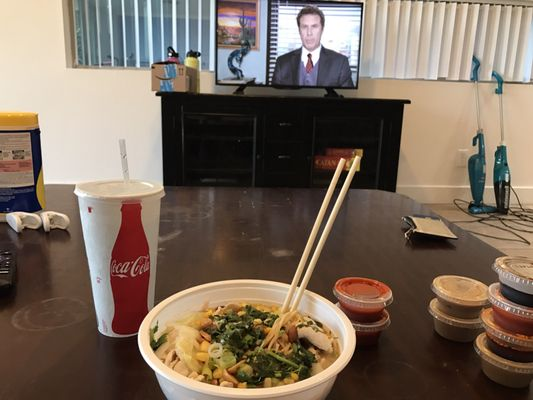salad: (261, 153, 361, 352)
sushi: (137, 278, 356, 400), (334, 276, 391, 322), (431, 275, 490, 309), (493, 256, 533, 301)
